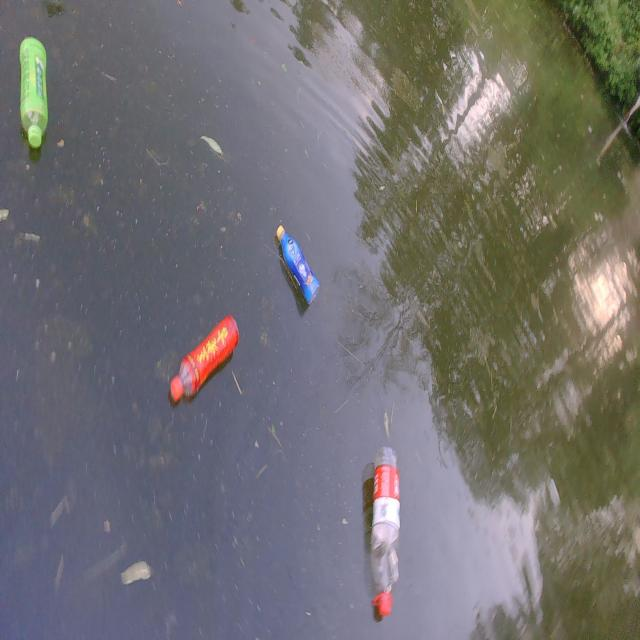Bottle: (164, 309, 241, 405), (369, 440, 404, 620), (273, 216, 321, 307), (18, 30, 50, 150)
